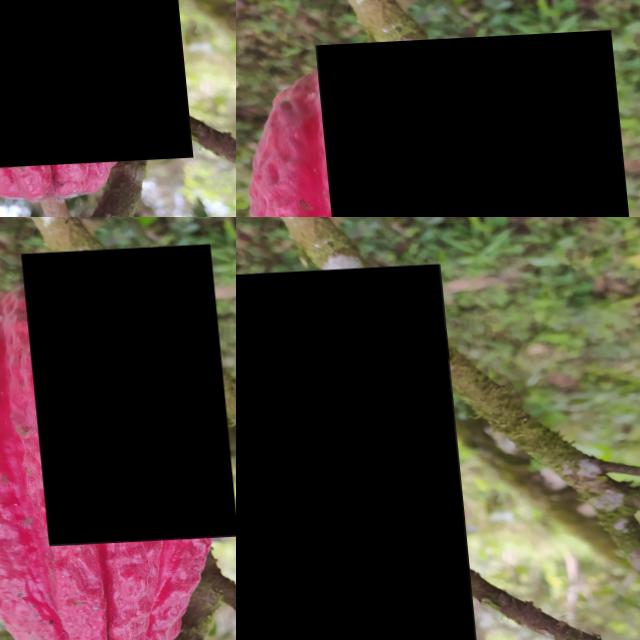Monilia: (21, 249, 231, 549), (313, 35, 640, 217)
Sana: (236, 269, 468, 640), (0, 0, 184, 172)
